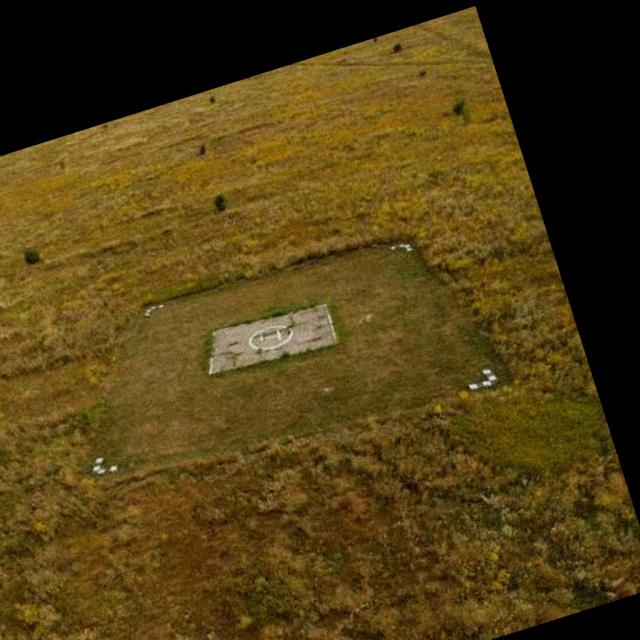helipad: (246, 324, 293, 350)
